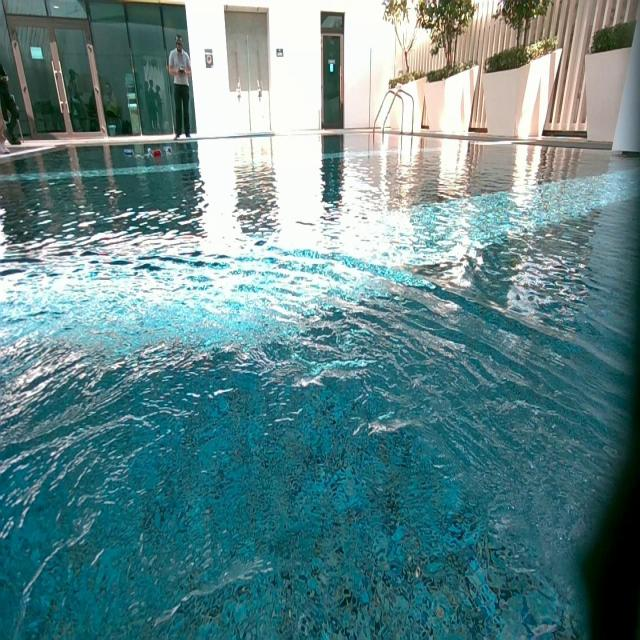Cans: (152, 148, 161, 159), (126, 148, 134, 157), (162, 146, 170, 155), (146, 148, 152, 158)
